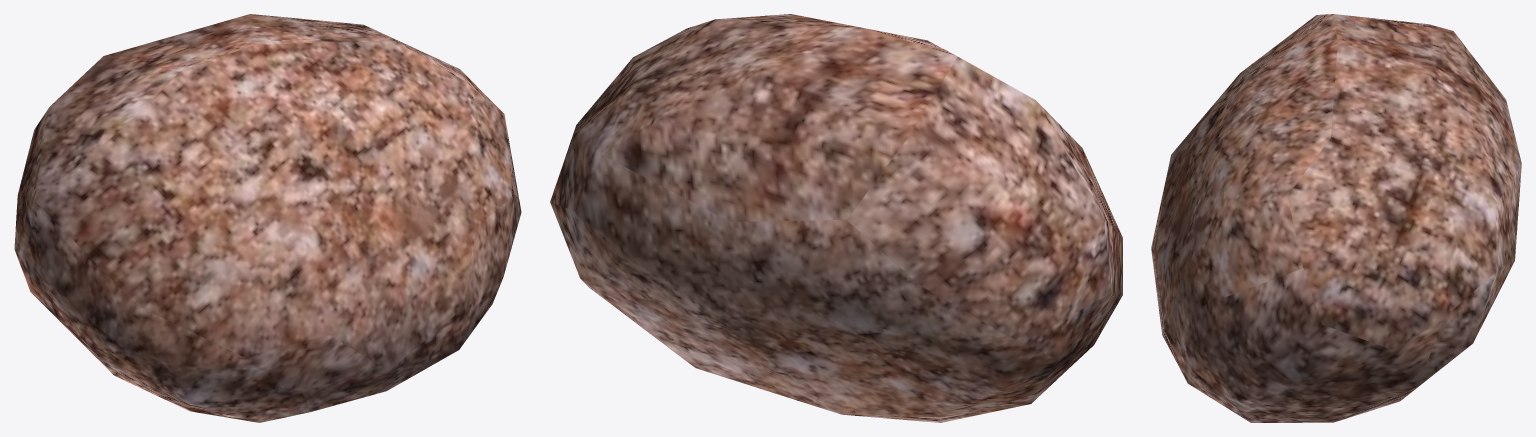
The picture shows the model from 3 angles, left to right: view 1: azimuth 30°, elevation 25°; view 2: azimuth 150°, elevation 25°; view 3: azimuth 270°, elevation 25°; orthographic projection. The views are drawn at different scales.
Parts seen in each view (by area): view 1: rock060_lod4; view 2: rock060_lod4; view 3: rock060_lod4.
Part boxes in pixels (<box>): rock060_lod4: <box>14,14,521,422</box>; rock060_lod4: <box>550,14,1122,422</box>; rock060_lod4: <box>1151,14,1521,422</box>.
Size of the model in its own units: 1 by 0.7189 by 0.7101.
Materials: 1 (1 with a texture image).
